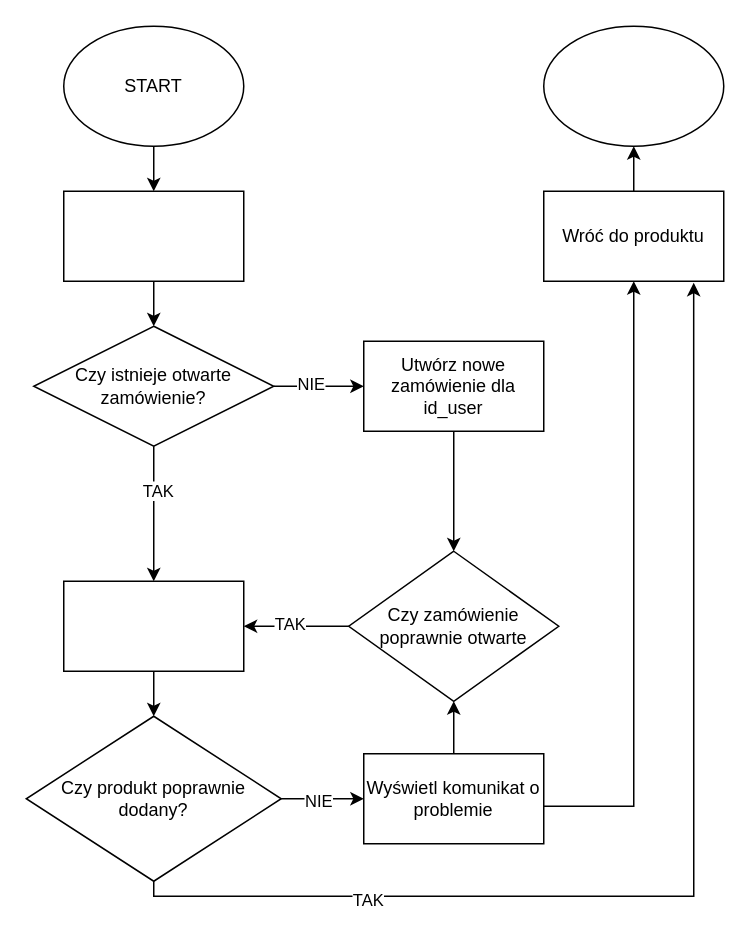
Some shapes in this 750 by 936 pixel diagram are drawn without their labels. Here are the shapes that lost their labels. From the top down, the centre of each, then its label:
the point at 633,85: KONIEC
the point at 153,235: Dodaj produkt do koszyka
the point at 153,625: Dodaj produkt do zamówienia
